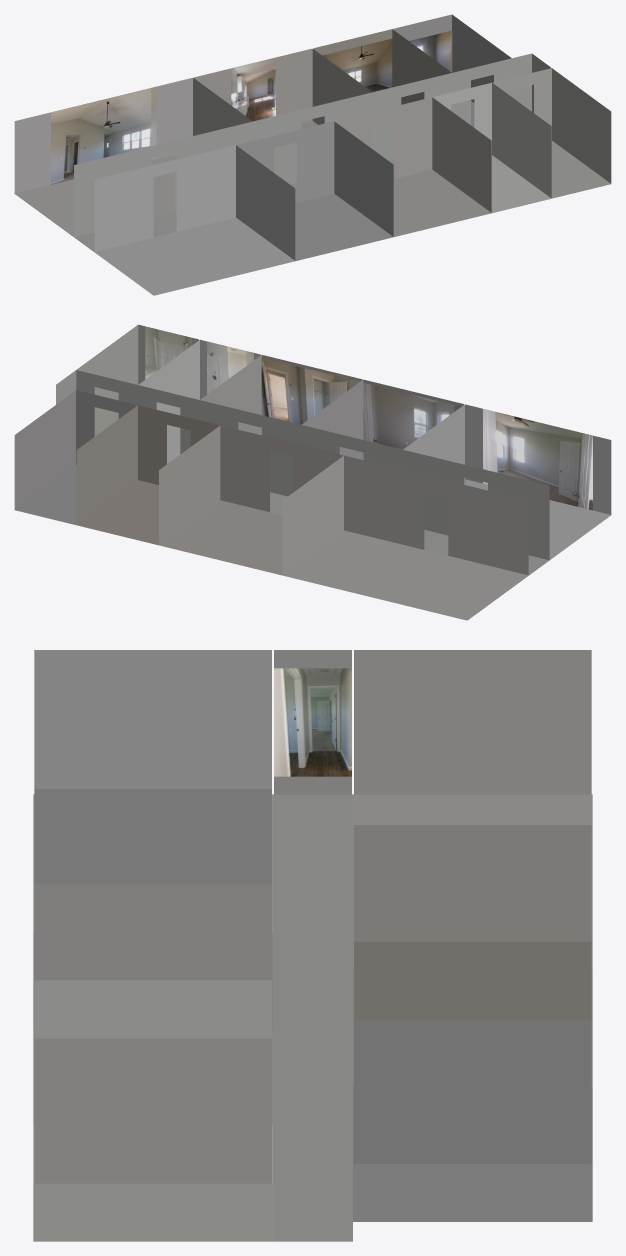
The model's file is house.glb.
3 views of the same model, one above another, from view 1: azimuth 30°, elevation 25°; view 2: azimuth 150°, elevation 25°; view 3: azimuth 270°, elevation 25° (orthographic). The views are drawn at different scales.
Parts seen in each view (by area): view 1: sru-hud-413-772606-primary-bedroom-shell, sru-hud-413-772606-hall-shell, sru-hud-413-772606-primary-bedroom-floor, sru-hud-413-772606-bedroom-2-shell, sru-hud-413-772606-bedroom-1-shell, sru-hud-413-772606-living-shell, sru-hud-413-772606-living-photo, sru-hud-413-772606-hall-bathroom-shell, sru-hud-413-772606-primary-bathroom-shell, sru-hud-413-772606-kitchen-shell, sru-hud-413-772606-bedroom-2-floor, sru-hud-413-772606-bedroom-1-floor (+9 smaller); view 2: sru-hud-413-772606-living-shell, sru-hud-413-772606-hall-shell, sru-hud-413-772606-living-floor, sru-hud-413-772606-kitchen-shell, sru-hud-413-772606-dining-shell, sru-hud-413-772606-primary-bedroom-photo, sru-hud-413-772606-utility-shell, sru-hud-413-772606-kitchen-floor, sru-hud-413-772606-primary-bedroom-shell, sru-hud-413-772606-bedroom-2-photo, sru-hud-413-772606-bedroom-1-photo, sru-hud-413-772606-dining-floor (+9 smaller); view 3: sru-hud-413-772606-hall-floor, sru-hud-413-772606-hall-bathroom-shell, sru-hud-413-772606-living-shell, sru-hud-413-772606-utility-shell, sru-hud-413-772606-primary-bedroom-shell, sru-hud-413-772606-kitchen-shell, sru-hud-413-772606-bedroom-2-shell, sru-hud-413-772606-bedroom-1-shell, sru-hud-413-772606-dining-shell, sru-hud-413-772606-hall-bathroom-floor, sru-hud-413-772606-primary-bathroom-shell, sru-hud-413-772606-utility-floor (+3 smaller).
Boxes of the visible parts, x1,y1,x2,y2 form: sru-hud-413-772606-primary-bedroom-shell: [94, 145, 295, 260]; sru-hud-413-772606-hall-shell: [74, 53, 550, 237]; sru-hud-413-772606-primary-bedroom-floor: [94, 217, 295, 295]; sru-hud-413-772606-bedroom-2-shell: [335, 97, 491, 212]; sru-hud-413-772606-bedroom-1-shell: [237, 121, 393, 236]; sru-hud-413-772606-living-shell: [14, 77, 252, 193]; sru-hud-413-772606-living-photo: [51, 86, 156, 184]; sru-hud-413-772606-hall-bathroom-shell: [493, 68, 611, 183]; sru-hud-413-772606-primary-bathroom-shell: [433, 82, 551, 198]; sru-hud-413-772606-kitchen-shell: [194, 48, 371, 124]; sru-hud-413-772606-bedroom-2-floor: [393, 169, 491, 236]; sru-hud-413-772606-bedroom-1-floor: [295, 193, 393, 260]; sru-hud-413-772606-living-shell: [282, 455, 528, 575]; sru-hud-413-772606-hall-shell: [56, 370, 549, 560]; sru-hud-413-772606-living-floor: [282, 530, 528, 620]; sru-hud-413-772606-kitchen-shell: [159, 425, 343, 544]; sru-hud-413-772606-dining-shell: [76, 405, 219, 524]; sru-hud-413-772606-primary-bedroom-photo: [483, 409, 592, 510]; sru-hud-413-772606-utility-shell: [14, 390, 136, 509]; sru-hud-413-772606-kitchen-floor: [158, 500, 282, 575]; sru-hud-413-772606-primary-bedroom-shell: [403, 404, 611, 514]; sru-hud-413-772606-bedroom-2-photo: [261, 358, 359, 424]; sru-hud-413-772606-bedroom-1-photo: [363, 383, 460, 449]; sru-hud-413-772606-dining-floor: [76, 480, 158, 544]; sru-hud-413-772606-hall-floor: [273, 794, 352, 1241]; sru-hud-413-772606-hall-bathroom-shell: [34, 1038, 271, 1183]; sru-hud-413-772606-living-shell: [354, 650, 591, 794]; sru-hud-413-772606-utility-shell: [354, 1019, 591, 1163]; sru-hud-413-772606-primary-bedroom-shell: [34, 650, 271, 788]; sru-hud-413-772606-kitchen-shell: [354, 825, 591, 941]; sru-hud-413-772606-bedroom-2-shell: [34, 884, 271, 980]; sru-hud-413-772606-bedroom-1-shell: [34, 789, 271, 884]; sru-hud-413-772606-dining-shell: [354, 941, 591, 1019]; sru-hud-413-772606-hall-bathroom-floor: [33, 1183, 272, 1241]; sru-hud-413-772606-primary-bathroom-shell: [34, 980, 271, 1038]; sru-hud-413-772606-utility-floor: [353, 1163, 592, 1221].
Size of the model in its own units: 16.15 by 2.44 by 8.53.
30 materials, 10 textured.
